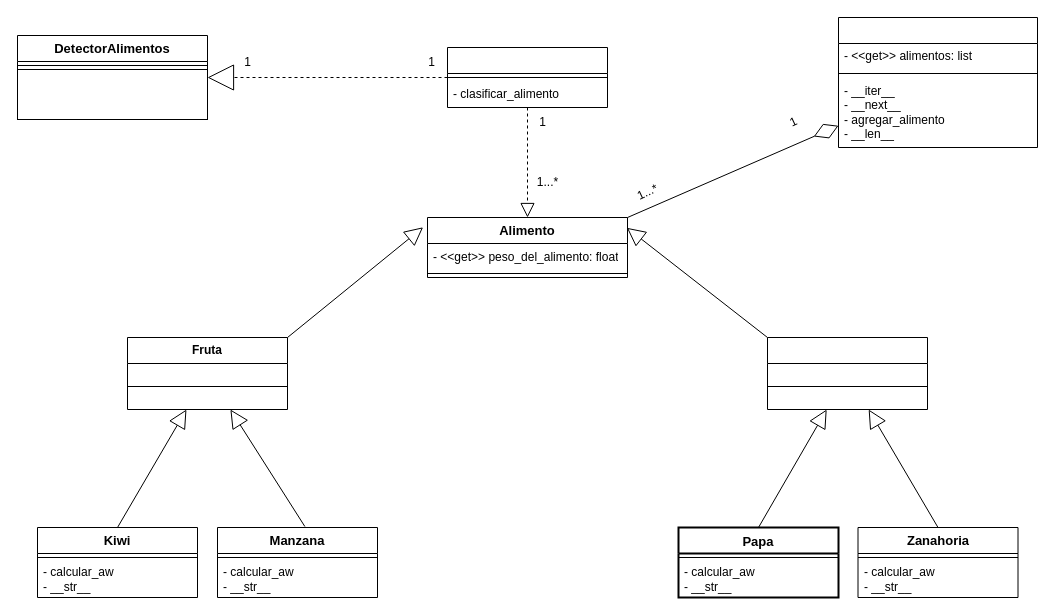
This 1055x616 diagram has some shape labels left out. Here are the shapes that lost their labels. From the top down, the box of each, then its label:
(16, 68, 208, 120): - __softmax - detectar_alimento
(446, 46, 608, 108): Cinta_Transportadora
(838, 16, 1038, 148): Cajón
(766, 336, 928, 410): Verdura
